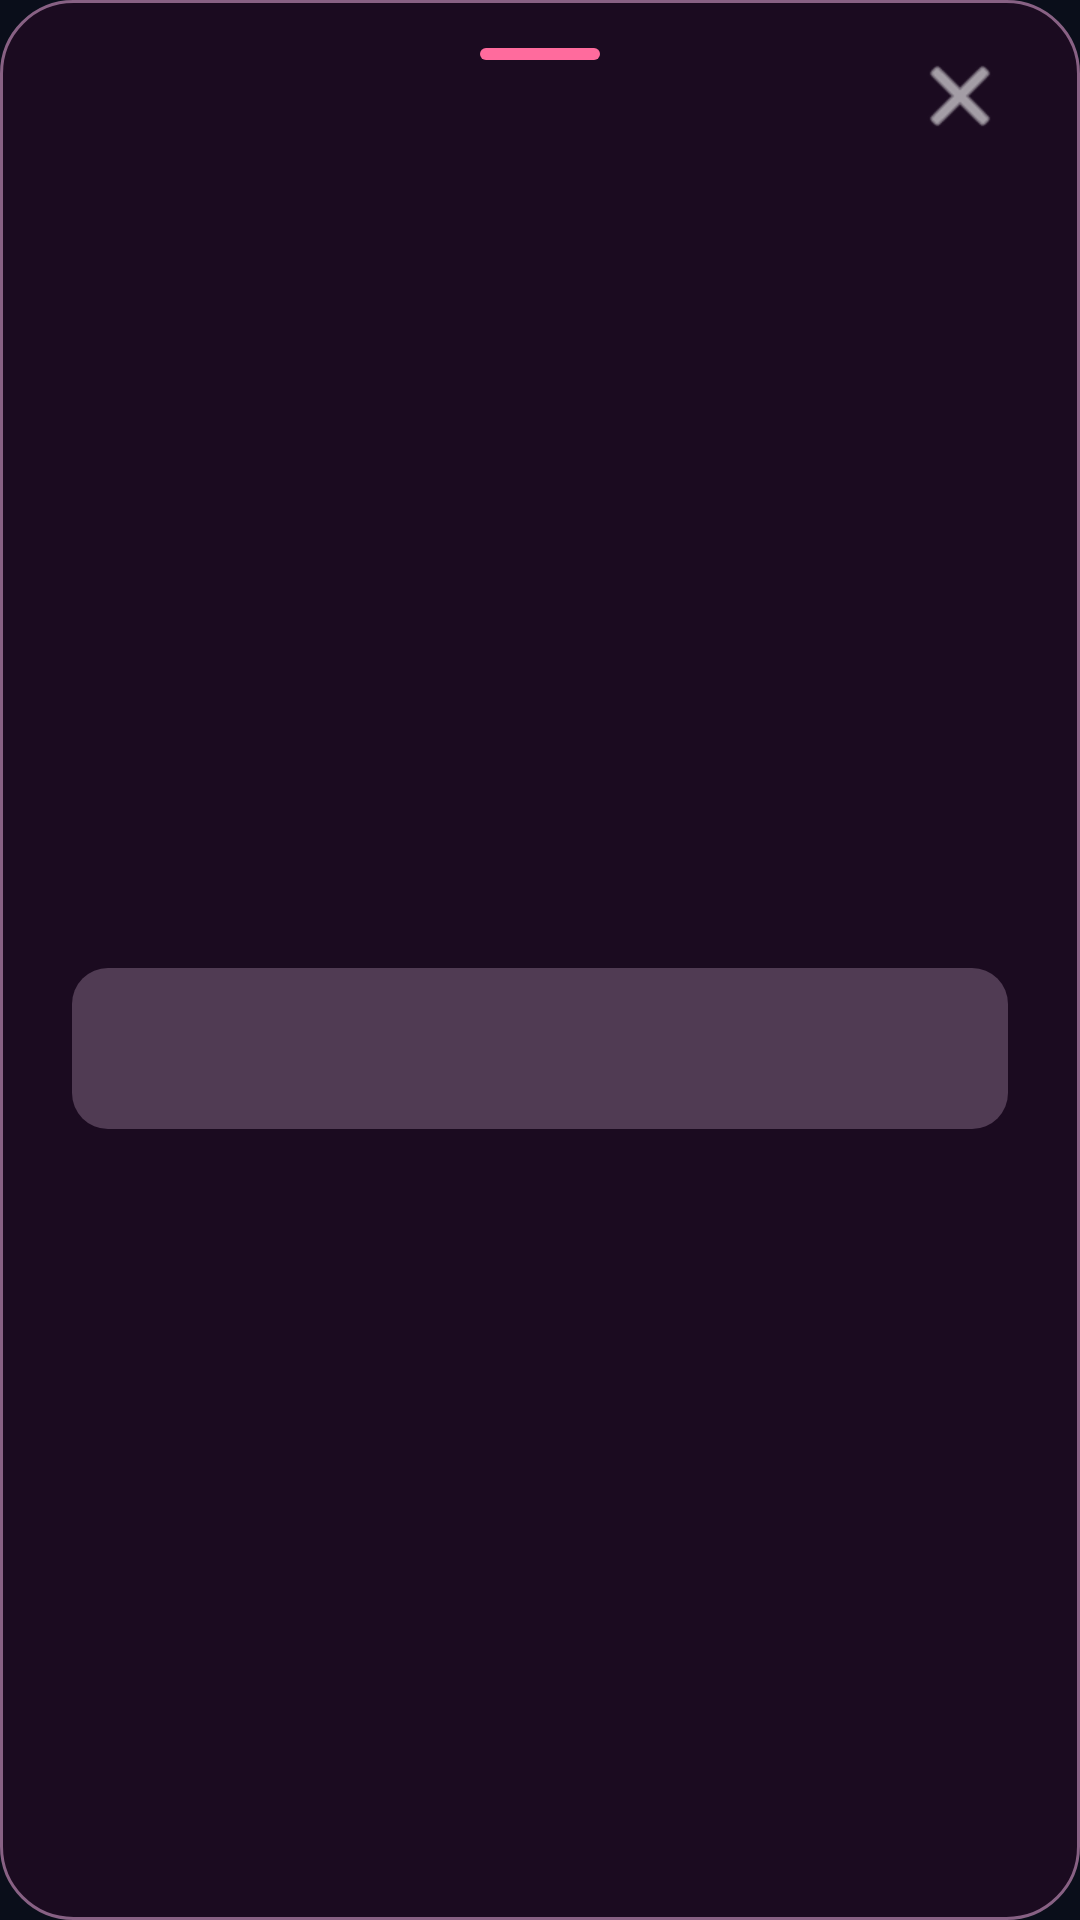

Screen size 1080x1920. Icon name, then its center in pixels as (x=x, y=y):
Закрыть: (x=960, y=96)
